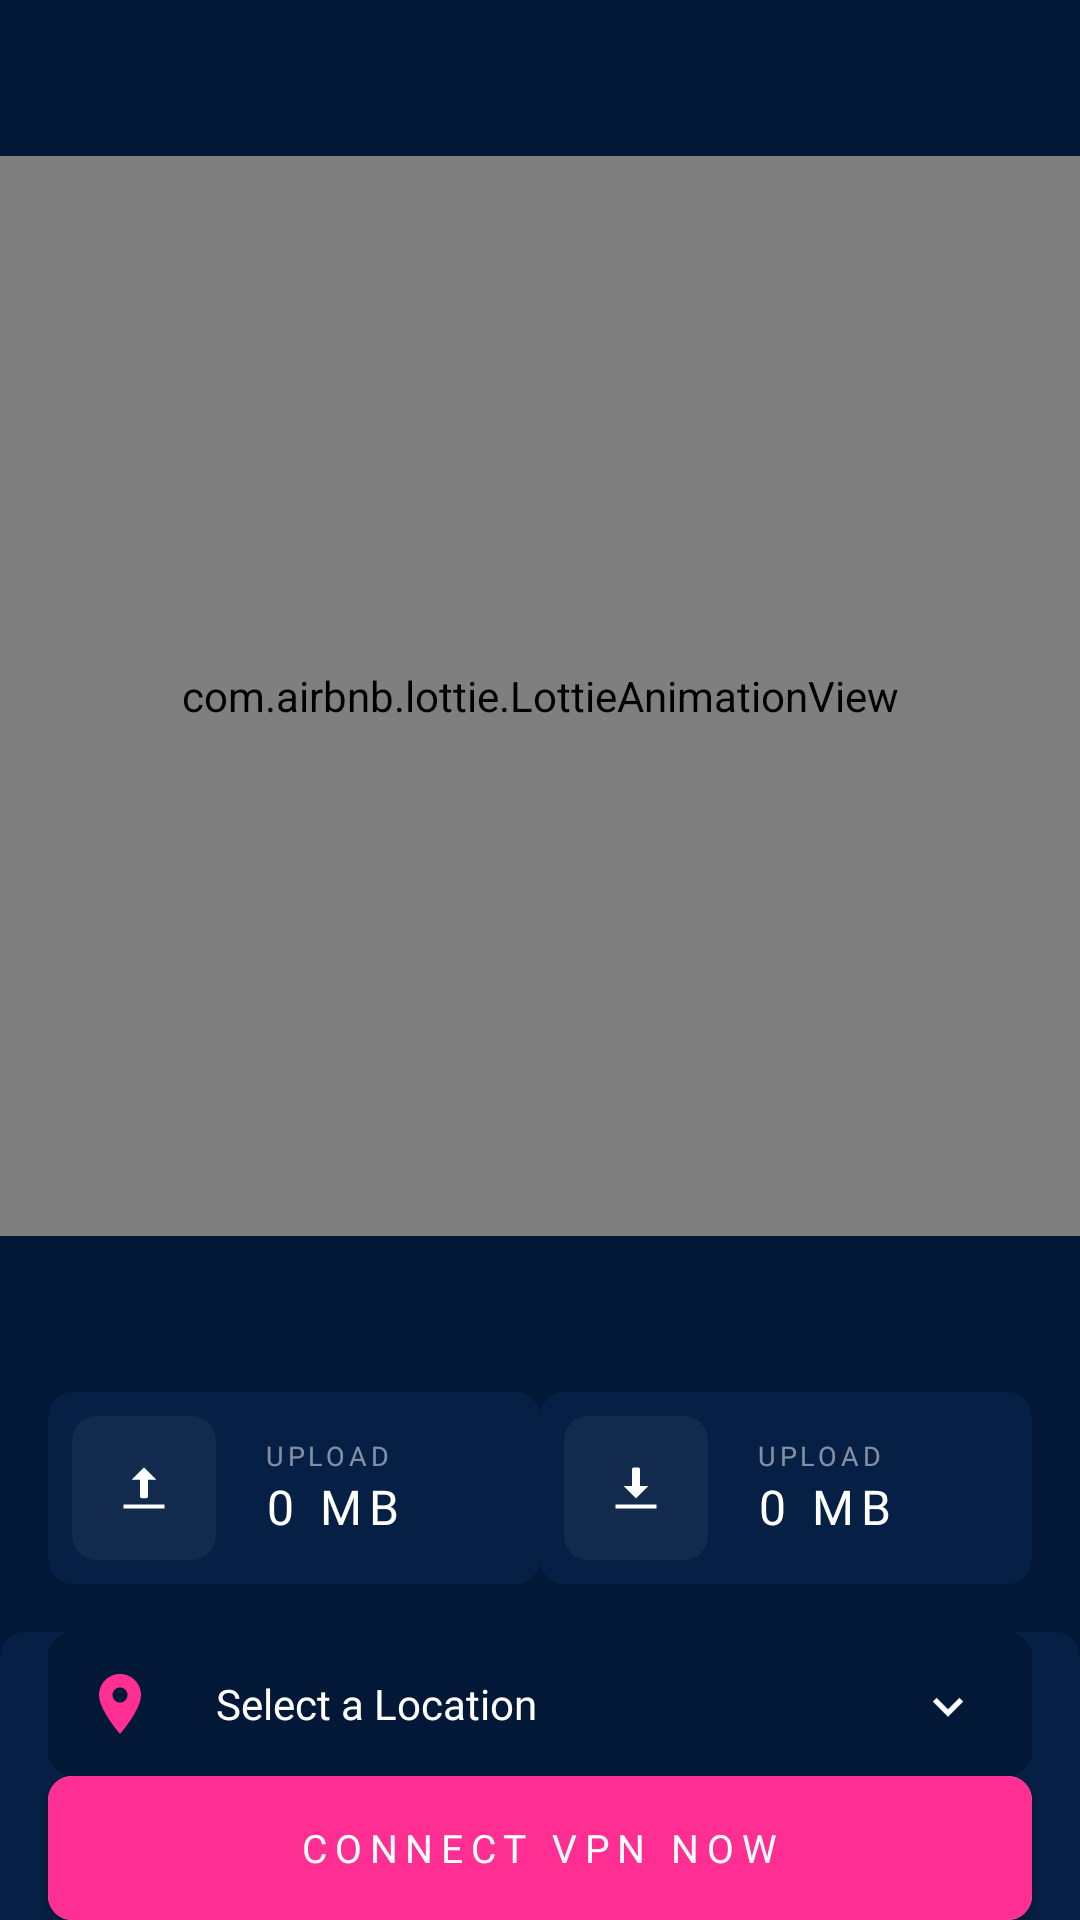

Icon click points for this 1080px x 1920px phone screenshot, format [x,y]:
download: [636,1488]
